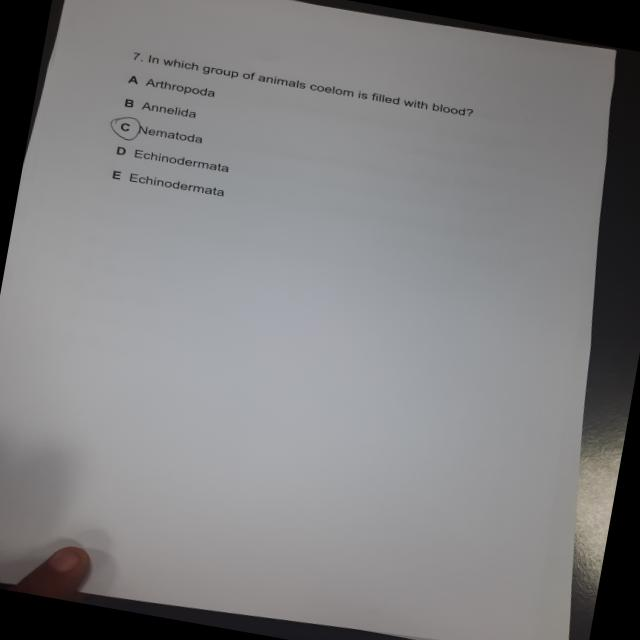C: (102, 113, 150, 146)
